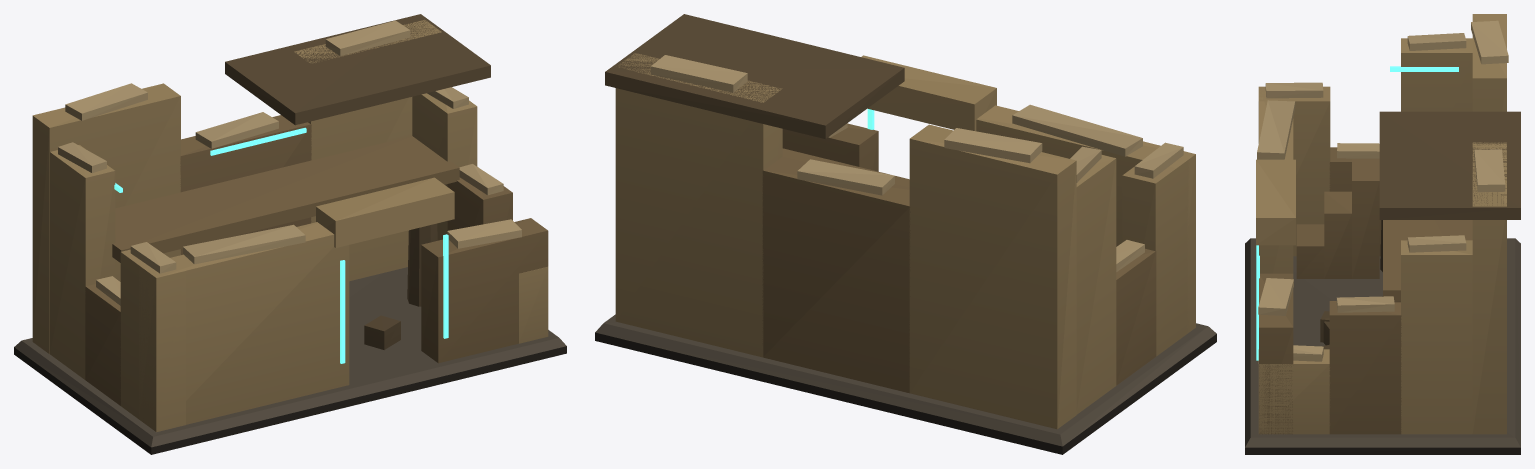
File: temple-collapsed-arch.glb
3 views of the same model, side by side, from view 1: azimuth 30°, elevation 25°; view 2: azimuth 150°, elevation 25°; view 3: azimuth 270°, elevation 25° (orthographic). The views are drawn at different scales.
Size of the model in its own units: 7 by 4 by 4.
